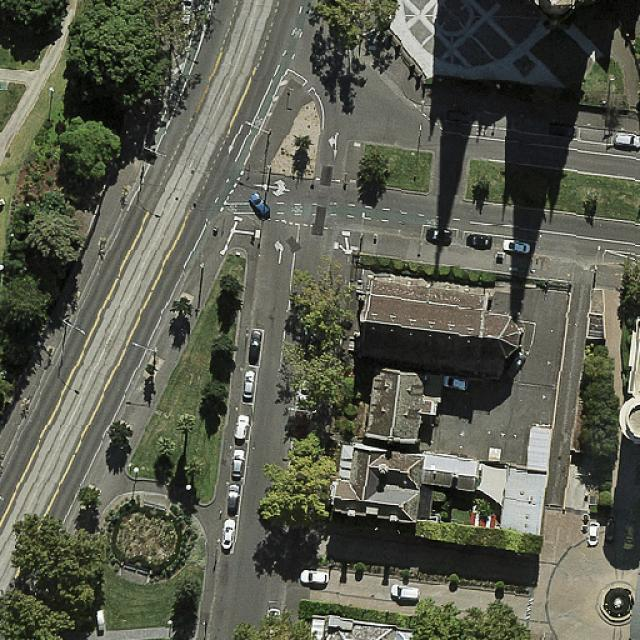Bike-Symbols: (424, 212, 443, 228), (252, 114, 264, 128), (292, 25, 304, 38), (290, 206, 305, 215)
